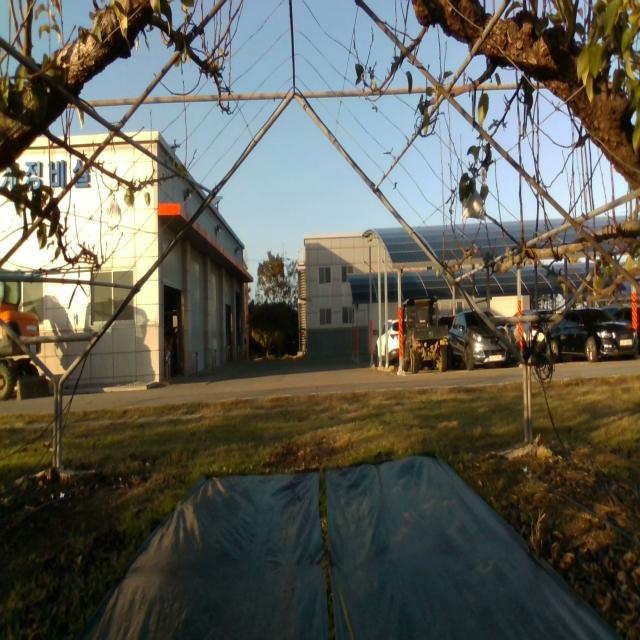pearbags: (461, 188, 487, 221), (106, 200, 122, 230)
